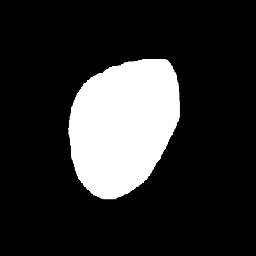mass: (71, 61, 179, 197)
